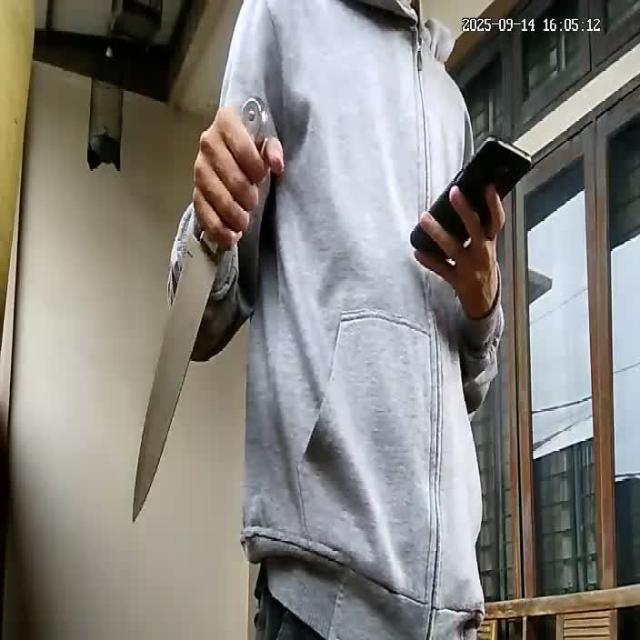senjata_tajam: (131, 230, 223, 522)
